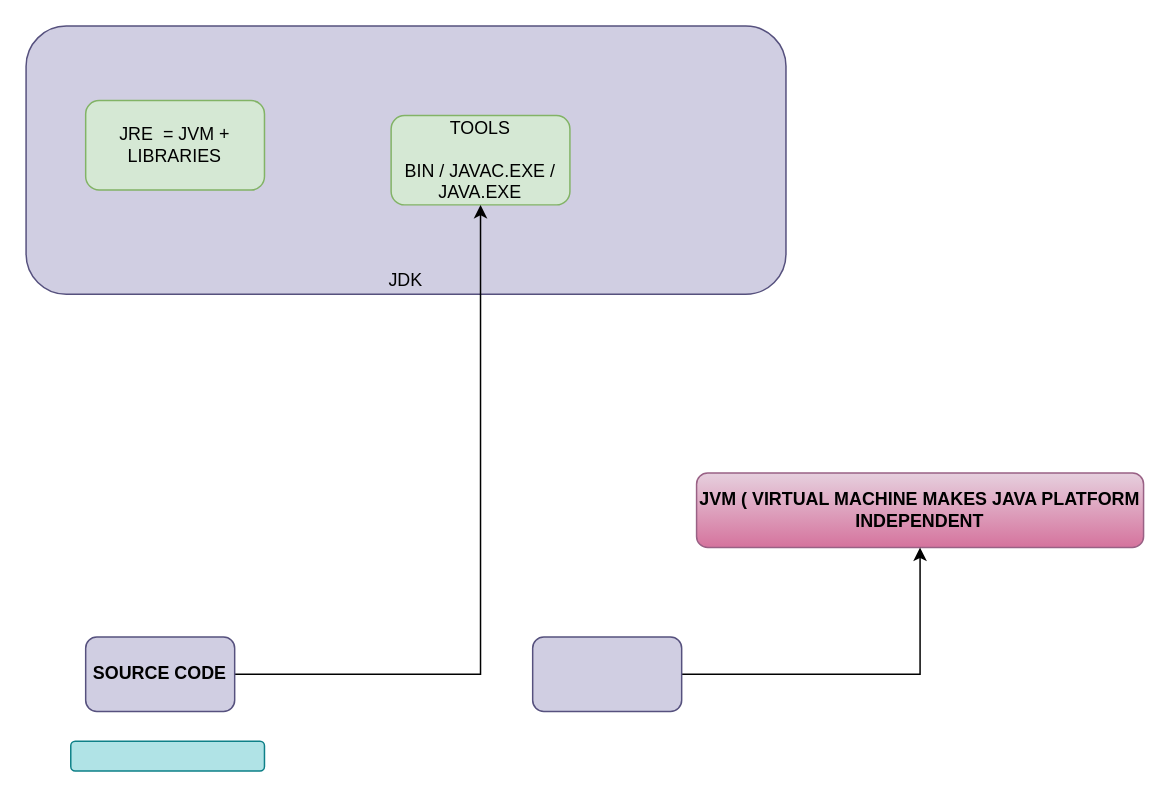
Some shapes in this 1170 by 797 pixel diagram are drawn without their labels. The box of each missing label's shape, as (x1, y1, x2, y2) in pixels:
,java: (69, 740, 264, 771)
BYTECODE: (531, 635, 682, 711)
